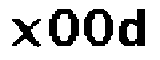0: (44, 6, 82, 48), (82, 6, 115, 48)
d: (116, 5, 149, 49)
x: (5, 15, 42, 49)
